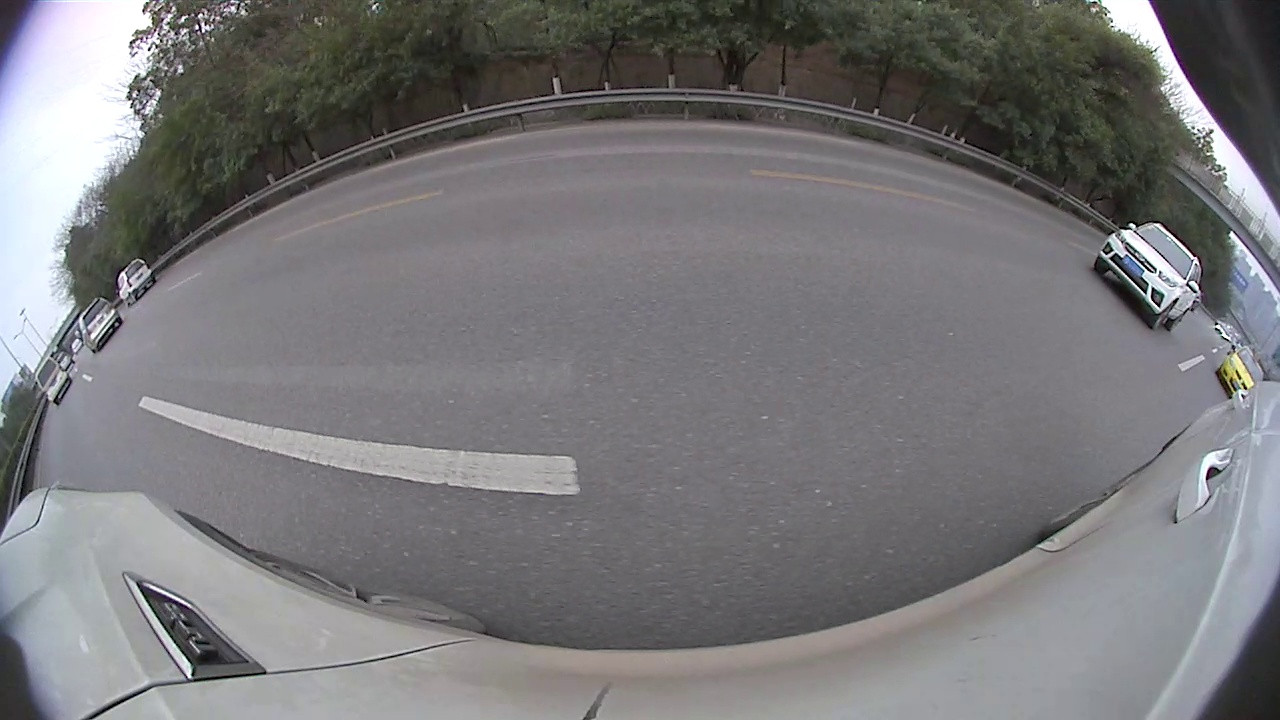car: (1093, 220, 1205, 333), (1214, 344, 1266, 401), (76, 295, 125, 355), (116, 256, 157, 308), (34, 354, 74, 407)
front: (1153, 301, 1174, 330)
